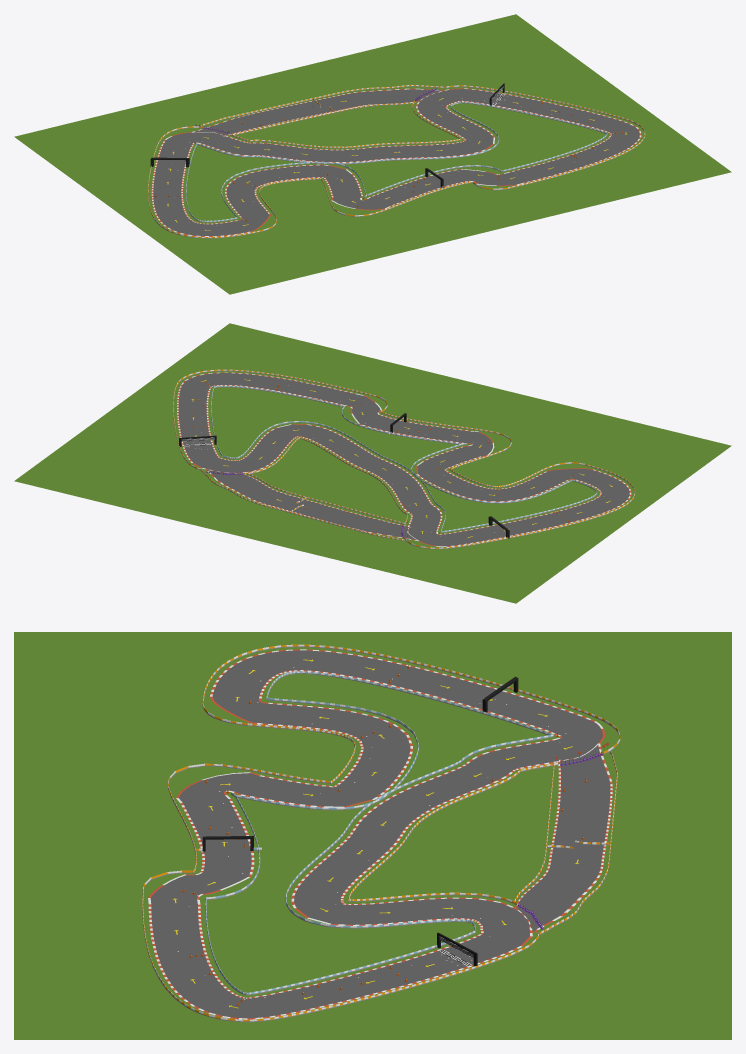
The model's file is basic-track5.glb.
3 renders of one model, top to bottom at view 1: azimuth 30°, elevation 25°; view 2: azimuth 150°, elevation 25°; view 3: azimuth 270°, elevation 25°, orthographic. The views are drawn at different scales.
Parts seen in each view (by area): view 1: ground, road, road2, outer-fence, inner-fence, fence.001; view 2: ground, road, road2, outer-fence, inner-fence, fence.001; view 3: ground, road, road2, outer-fence, inner-fence.
Part boxes in pixels (box(x1,y1,x2,y2)): ground: box(14, 14, 731, 294); road: box(151, 88, 641, 236); road2: box(192, 88, 442, 136); outer-fence: box(148, 85, 645, 238); inner-fence: box(186, 101, 607, 222); fence.001: box(198, 85, 445, 126); ground: box(14, 323, 731, 603); road: box(177, 372, 631, 546); road2: box(205, 470, 417, 540); outer-fence: box(173, 369, 635, 548); inner-fence: box(211, 385, 597, 532); fence.001: box(200, 469, 404, 540); ground: box(14, 632, 731, 1039); road: box(148, 649, 604, 1019); road2: box(516, 744, 612, 932); outer-fence: box(142, 644, 620, 1022); inner-fence: box(205, 671, 553, 995).
Size of the model in its own units: 1602 by 35.65 by 1192.
2 materials, 2 textured.
